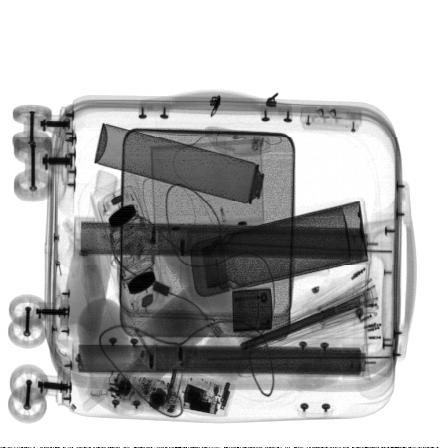Lighter: (233, 288, 272, 331)
Sprayer: (95, 122, 289, 211)
